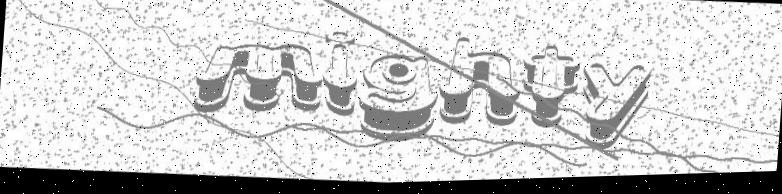g: (357, 48, 441, 149)
h: (432, 33, 529, 143)
i: (315, 30, 362, 129)
m: (191, 33, 327, 122)
t: (522, 43, 582, 132)
y: (574, 62, 657, 156)
